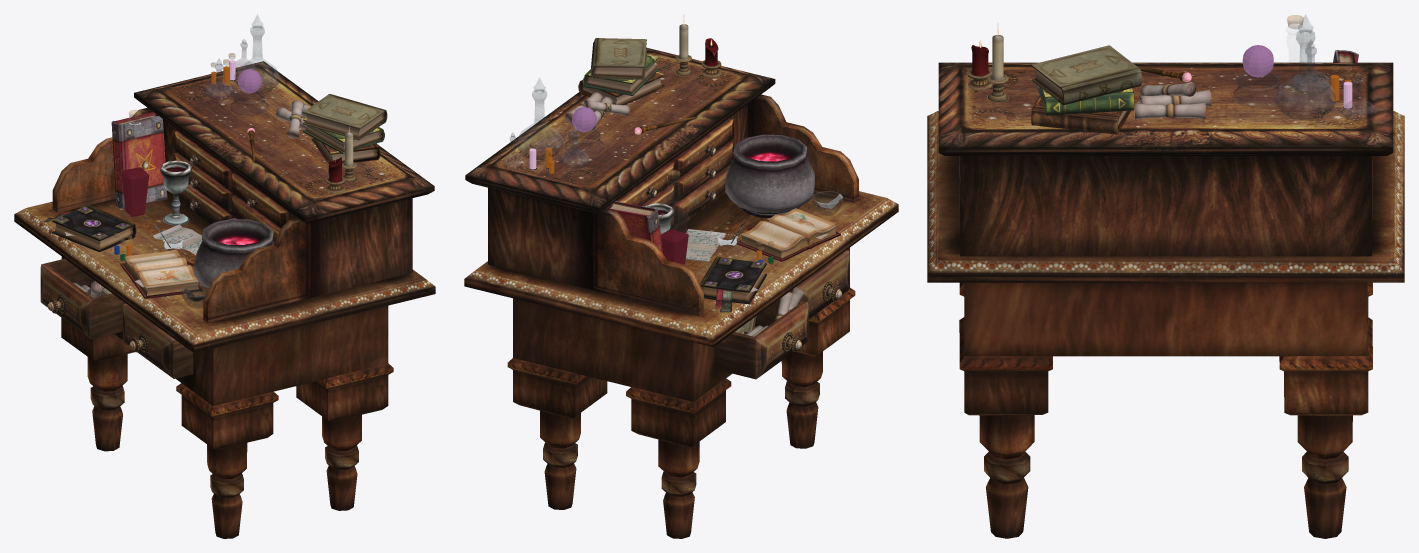
File: witch_prop_set.glb
3 views of the same model, side by side, from view 1: azimuth 30°, elevation 25°; view 2: azimuth 150°, elevation 25°; view 3: azimuth 270°, elevation 25° (orthographic). The views are drawn at different scales.
Parts seen in each view (by area): view 1: polySurface18, pCube6, pCylinder41, polySurface3, pCube3, pCube9, pCylinder20, pCylinder66, pCube12, pCube8, pCube4, pCube7 (+4 smaller); view 2: polySurface18, pCylinder41, polySurface3, pCube9, pCube3, pCylinder66, pCube6, pCube8, pCube4, pCube7, pCylinder42, pCube12 (+4 smaller); view 3: polySurface18, pCube9, pCylinder66, pCube7, pCube8, pCylinder42, pCylinder60, pPlane4, pCylinder35, pPlane5, pSphere2, pCylinder65 (+2 smaller).
Boxes of the visible parts, x1=… form: polySurface18: x1=14, y1=61, x2=435, y2=538; pCube6: x1=111, y1=112, x2=167, y2=208; pCylinder41: x1=194, y1=219, x2=274, y2=289; polySurface3: x1=120, y1=250, x2=203, y2=298; pCube3: x1=52, y1=204, x2=136, y2=252; pCube9: x1=303, y1=94, x2=387, y2=140; pCylinder20: x1=160, y1=160, x2=192, y2=225; pCylinder66: x1=234, y1=14, x2=280, y2=93; pCube12: x1=121, y1=167, x2=149, y2=216; pCube8: x1=303, y1=118, x2=384, y2=153; pCube4: x1=153, y1=224, x2=202, y2=255; pCube7: x1=311, y1=138, x2=380, y2=163; polySurface18: x1=464, y1=47, x2=898, y2=538; pCylinder41: x1=725, y1=134, x2=815, y2=217; polySurface3: x1=736, y1=208, x2=840, y2=261; pCube9: x1=590, y1=38, x2=646, y2=79; pCube3: x1=700, y1=256, x2=766, y2=304; pCylinder66: x1=516, y1=77, x2=563, y2=158; pCube6: x1=607, y1=201, x2=662, y2=252; pCube8: x1=583, y1=54, x2=659, y2=95; pCube4: x1=685, y1=229, x2=725, y2=261; pCube7: x1=578, y1=71, x2=664, y2=104; pCylinder42: x1=565, y1=129, x2=603, y2=155; pCube12: x1=661, y1=229, x2=688, y2=264; polySurface18: x1=927, y1=62, x2=1404, y2=538; pCube9: x1=1031, y1=45, x2=1142, y2=105; pCylinder66: x1=1276, y1=14, x2=1335, y2=120; pCube7: x1=1031, y1=91, x2=1133, y2=134; pCube8: x1=1037, y1=86, x2=1133, y2=115; pCylinder42: x1=1233, y1=73, x2=1283, y2=107; pCylinder60: x1=1134, y1=102, x2=1205, y2=119; pPlane4: x1=986, y1=24, x2=1009, y2=102; pCylinder35: x1=1292, y1=40, x2=1329, y2=94; pPlane5: x1=967, y1=41, x2=992, y2=90; pSphere2: x1=1242, y1=45, x2=1273, y2=77; pCylinder65: x1=1340, y1=73, x2=1375, y2=120.
Bounding box in the file's own units: 88.87 × 126 × 102.
6 materials, 6 textured.
